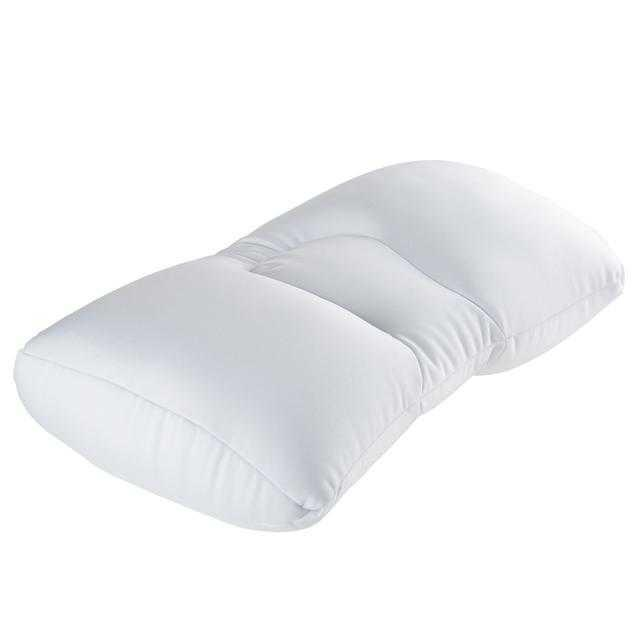pillow: (12, 156, 624, 532)
